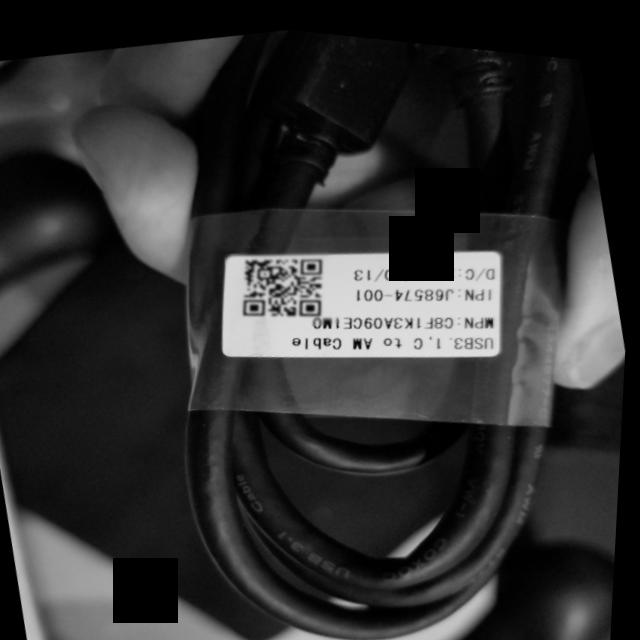QR_CODE: (223, 227, 345, 337)
